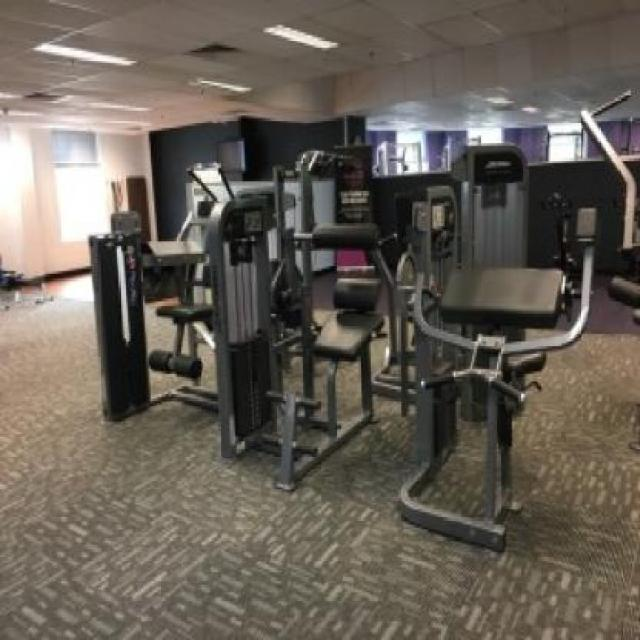arm curl machine: (403, 204, 600, 558)
